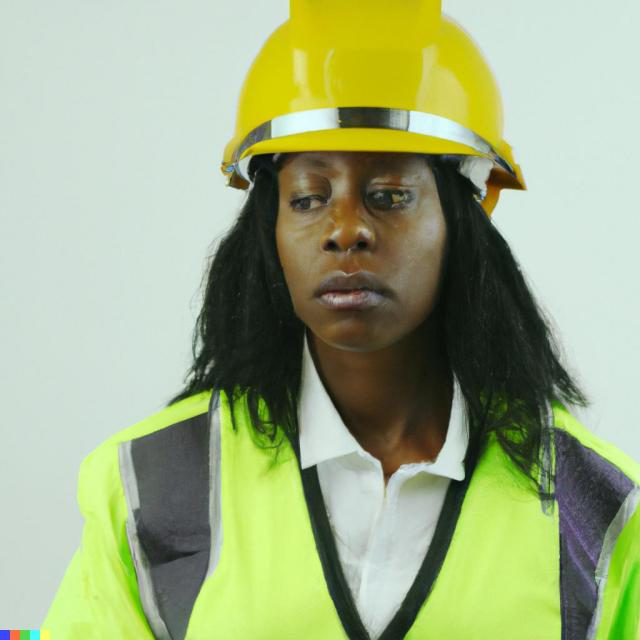Reflective-Jacket: (35, 344, 634, 635)
Safety-Helmet: (223, 5, 528, 174)
